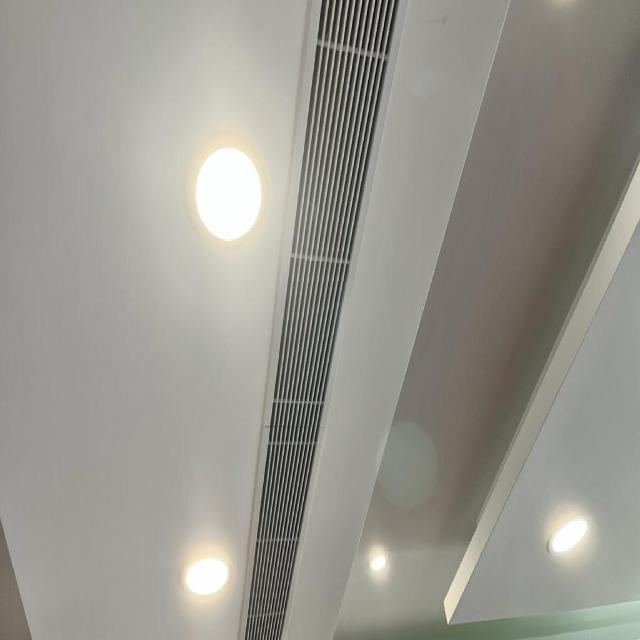Light-Opened: (189, 141, 266, 245), (176, 550, 235, 603), (545, 510, 593, 560), (363, 546, 389, 580)
